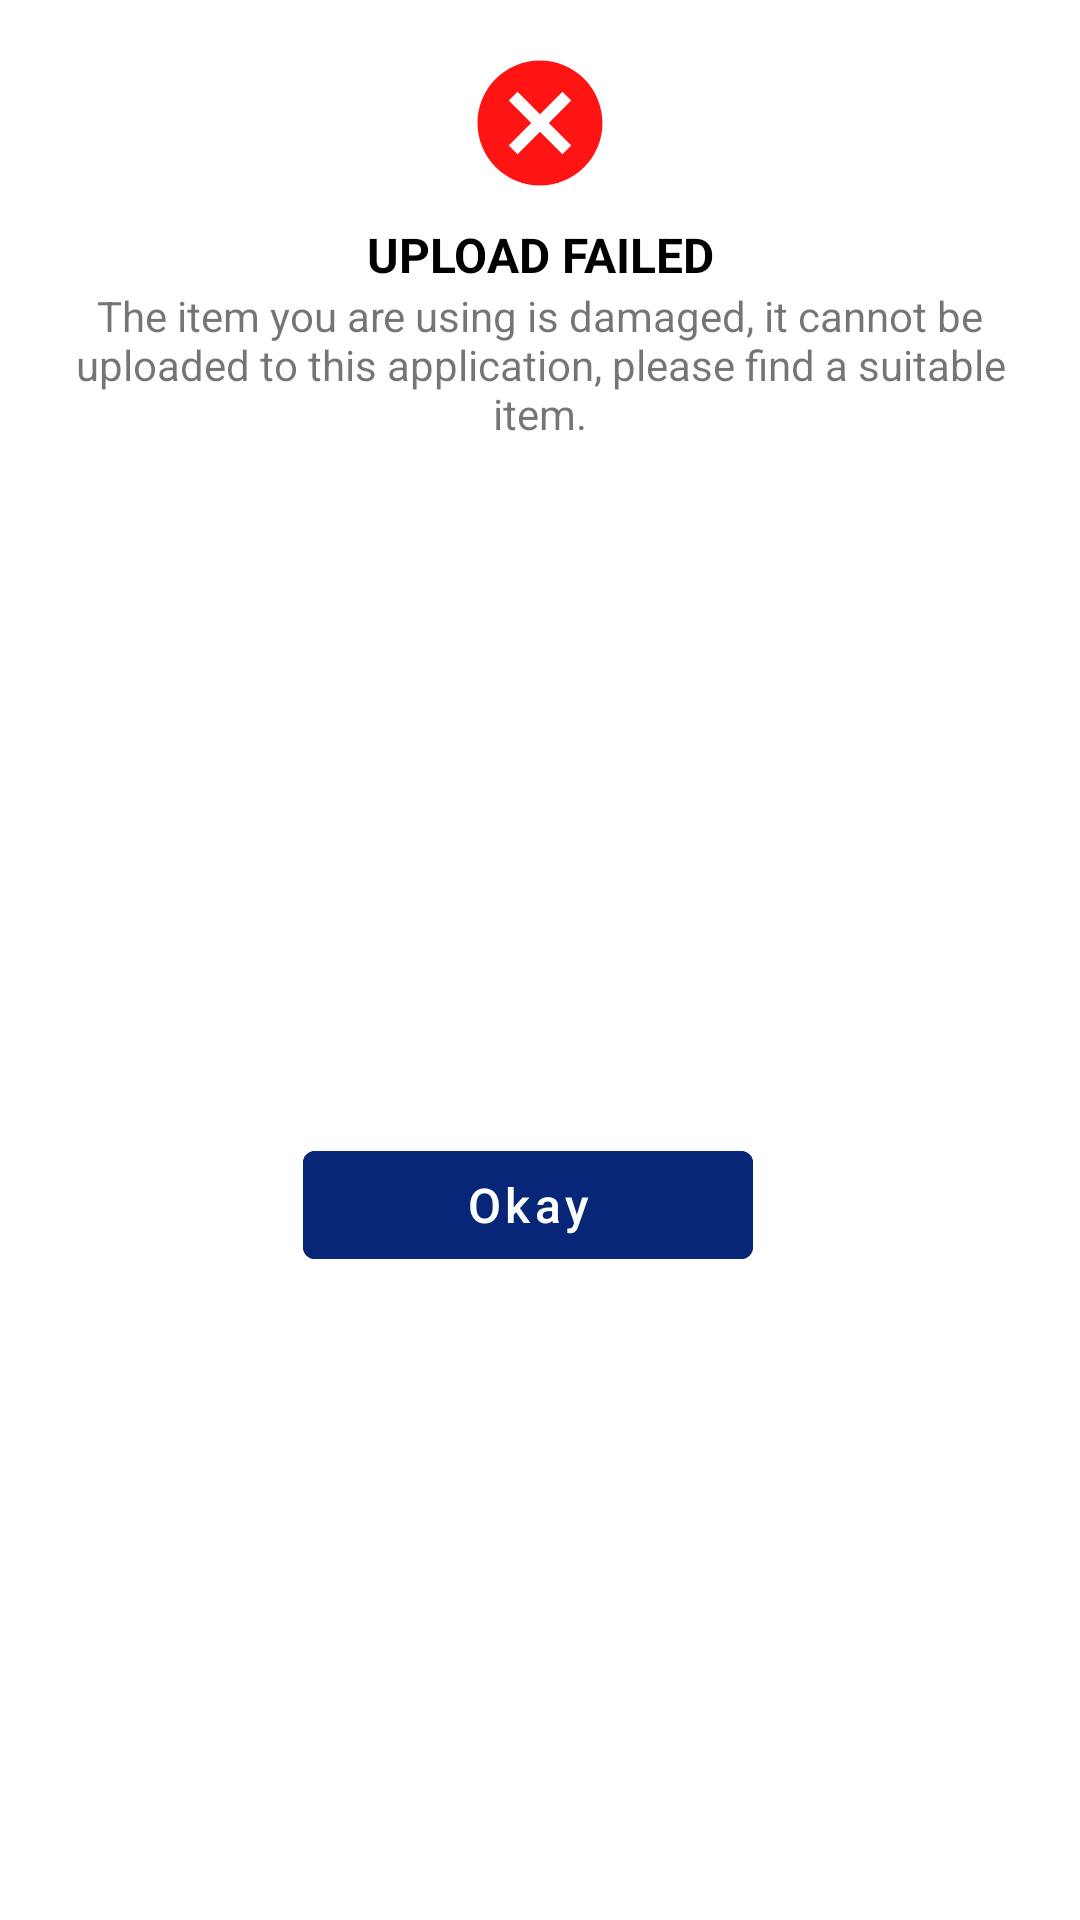

Locate icon controls on the screen. Image size 1080*1920, boxes as (x1, y1, x2, y2).
error: (477, 60, 603, 186)
